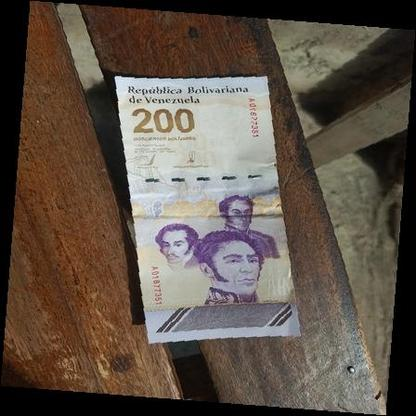two_hundred-front-vef: (113, 76, 301, 344)
